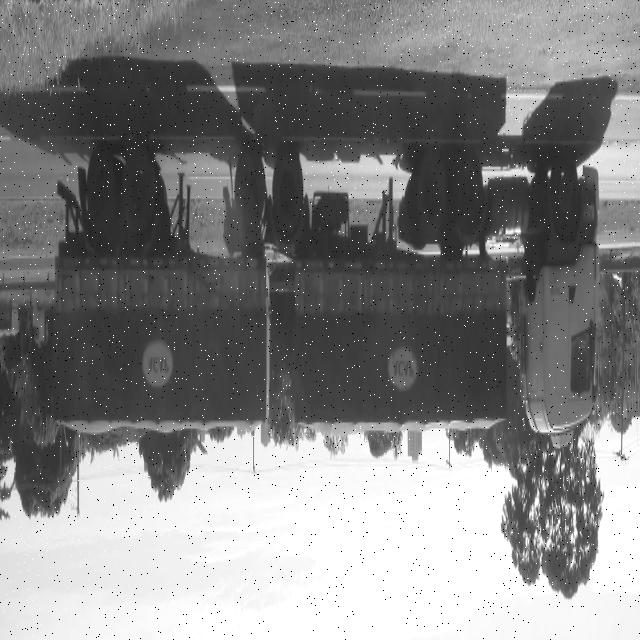-axle: (124, 143, 160, 241), (271, 146, 303, 237), (233, 146, 263, 235), (451, 149, 483, 232), (88, 152, 118, 239), (550, 148, 581, 232), (417, 149, 447, 231)
